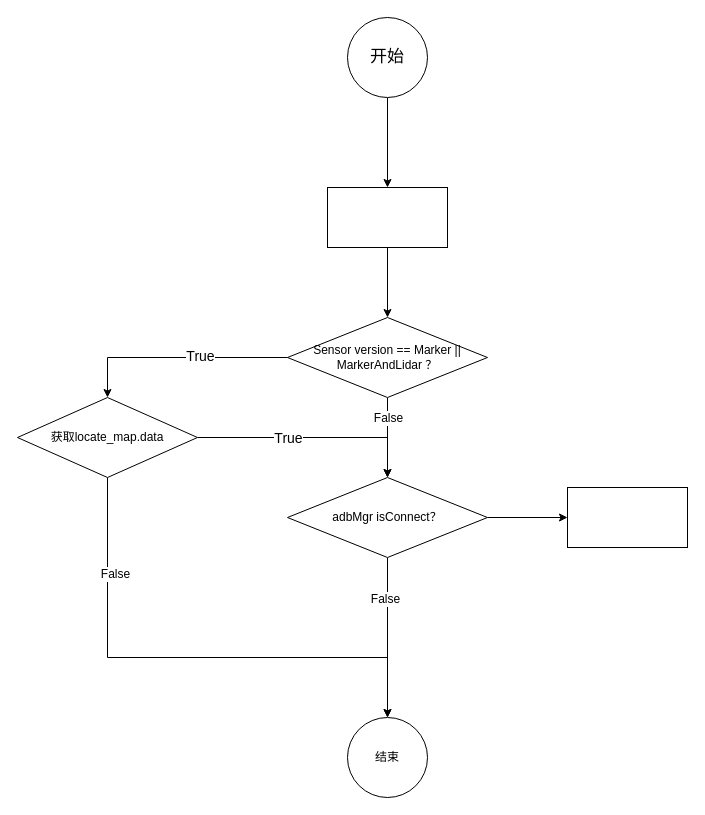
This 705x815 diagram has some shape labels left out. Here are the shapes that lost their labels. From the top down, the centre of each, then its label:
point 387,217: 获取地图Sensor版本信息
point 627,517: 获取当前地图名
